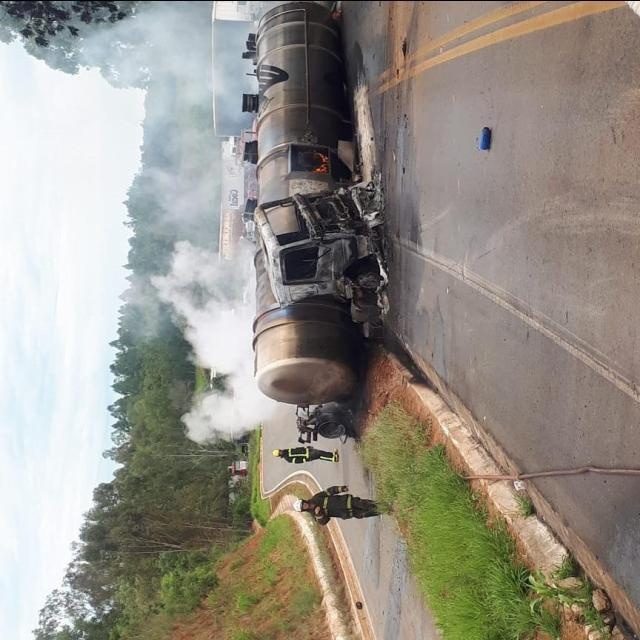Fire: (315, 149, 327, 173)
